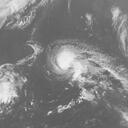cyclone: (45, 39, 108, 86)
